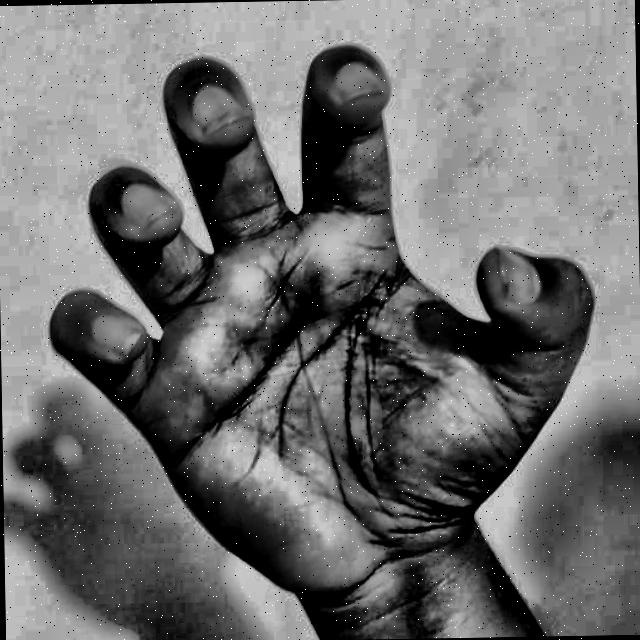Ja: (26, 24, 614, 640)
